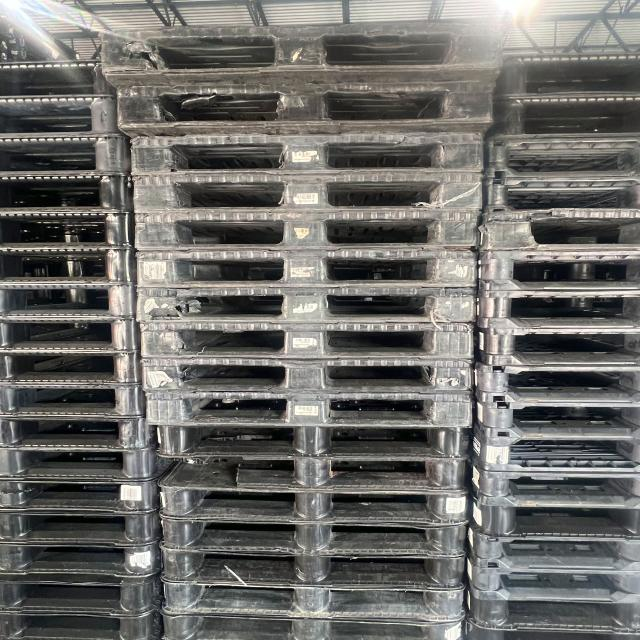igps: (101, 66, 504, 142), (96, 13, 514, 84), (122, 127, 492, 180), (126, 174, 492, 217), (130, 251, 482, 293), (135, 323, 480, 365), (154, 551, 478, 595), (131, 215, 490, 254), (128, 288, 484, 327), (136, 360, 482, 400), (150, 484, 480, 525), (155, 518, 477, 560), (156, 580, 476, 622), (152, 454, 480, 493), (137, 394, 479, 430), (150, 424, 480, 460), (153, 608, 470, 640), (488, 37, 640, 100), (463, 521, 640, 572), (470, 247, 640, 295), (478, 134, 640, 180), (463, 558, 640, 600), (469, 326, 640, 369), (472, 212, 640, 255), (466, 363, 640, 404), (470, 289, 640, 330), (466, 433, 640, 472), (493, 98, 640, 144), (463, 469, 640, 505), (0, 575, 168, 612), (464, 505, 640, 540), (479, 178, 640, 215), (0, 478, 165, 514), (0, 134, 136, 177), (0, 544, 166, 578), (470, 402, 640, 435), (0, 210, 140, 250), (459, 599, 640, 629), (0, 96, 125, 139), (0, 174, 137, 213), (0, 318, 144, 355), (0, 349, 144, 386), (0, 512, 166, 544), (0, 282, 139, 320), (0, 248, 138, 286), (0, 609, 165, 640), (0, 418, 161, 449), (0, 450, 163, 480), (0, 383, 148, 416), (0, 22, 107, 67), (457, 615, 640, 640), (0, 64, 118, 100)
